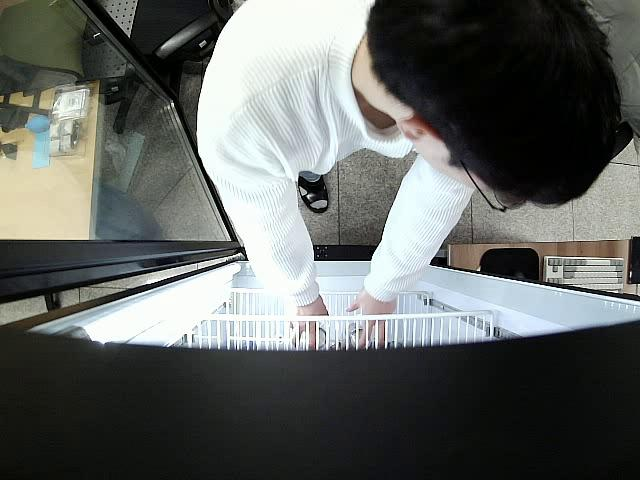00_hand: (346, 288, 397, 348), (287, 295, 330, 351)
